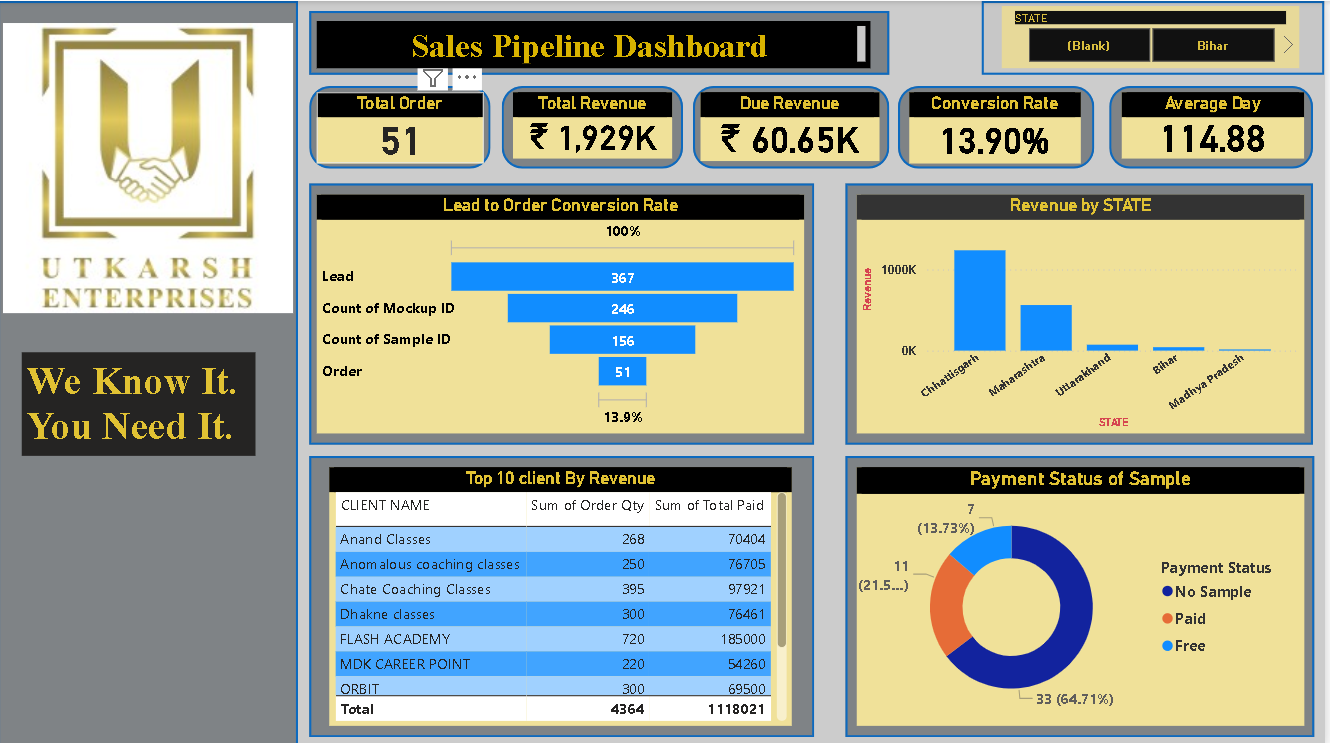

The dashboard page shown, as its layout file describes it:
{"tool":"powerbi","page":{"name":"Page 3","canvas":[1280,720],"ordinal":2},"visuals":[{"type":"card","fields":{"Values":["Order.Total Revenue"]},"box":[0,177.8,248.9,128.9],"z":0},{"type":"card","fields":{"Values":["Order.Borrow Revenue"]},"box":[0,316.7,305.6,122.2],"z":1},{"type":"card","fields":{"Values":["Order.Total Order"]},"box":[0,30,192.2,140],"z":2},{"type":"card","fields":{"Values":["Order.Order Conversion Rate"]},"box":[0,587.8,362.2,132.2],"z":3},{"type":"card","fields":{"Values":["Order.Average Order"]},"box":[0,448.9,338.9,128.9],"z":4},{"type":"funnel","title":"Lead to Order Conversion Funnel","fields":{"Y":["Order.Total Lead","Order.Mockup","Order.Sample","Order.Total Order"]},"box":[828.9,90,434.4,298.9],"z":5},{"type":"columnChart","title":"Revenue By State","fields":{"Category":["Order.STATE"],"Y":["Sum(Order.Total Paid)"]},"box":[320,90,492.2,298.9],"z":6},{"type":"tableEx","title":"Top 10 Client By Revenue","fields":{"Values":["Order.CLIENT NAME","Sum(Order.Order Qty)","Sum(Order.Total Paid)"]},"box":[370,396.7,442.2,322.2],"z":7},{"type":"donutChart","title":"Payment Status Of Sample","fields":{"Y":["CountNonNull(Order.Payment Status)"],"Category":["Order.Payment Status"]},"box":[812.2,396.7,467.8,323.3],"z":8},{"type":"textbox","box":[200,30,1080,50],"z":9}]}

Visuals, with their boxes in screenshot pixels (x1, y1, x2, y2), scaled from the page's 1280x720 canvas onto the 1330x743 screenshot:
card - Order.Total Revenue: [left=0, top=183, right=259, bottom=316]
card - Order.Borrow Revenue: [left=0, top=327, right=318, bottom=453]
card - Order.Total Order: [left=0, top=31, right=200, bottom=175]
card - Order.Order Conversion Rate: [left=0, top=607, right=376, bottom=742]
card - Order.Average Order: [left=0, top=463, right=352, bottom=596]
"Lead to Order Conversion Funnel" funnel: [left=861, top=93, right=1313, bottom=401]
"Revenue By State" columnChart: [left=332, top=93, right=844, bottom=401]
"Top 10 Client By Revenue" tableEx: [left=384, top=409, right=844, bottom=742]
"Payment Status Of Sample" donutChart: [left=844, top=409, right=1329, bottom=742]
textbox: [left=208, top=31, right=1329, bottom=83]
